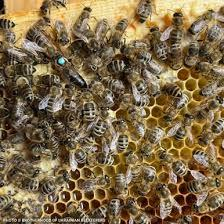Queen-Bee: (55, 51, 91, 91)
worker-bee: (160, 12, 183, 69), (187, 170, 220, 205), (156, 183, 180, 218), (39, 171, 70, 195), (167, 113, 193, 141), (163, 93, 188, 121), (193, 96, 222, 120), (72, 7, 91, 42), (38, 86, 63, 112), (193, 192, 223, 212), (188, 10, 213, 34), (150, 27, 167, 60), (110, 19, 127, 48), (195, 62, 223, 79), (80, 175, 109, 191), (16, 76, 33, 103), (114, 169, 131, 194), (82, 92, 96, 121), (4, 64, 35, 76), (55, 20, 69, 46), (184, 41, 198, 67), (103, 78, 124, 94), (136, 0, 151, 22), (145, 127, 164, 144), (162, 83, 182, 97), (107, 198, 120, 218), (107, 59, 125, 73), (211, 118, 223, 133), (0, 18, 14, 29)
